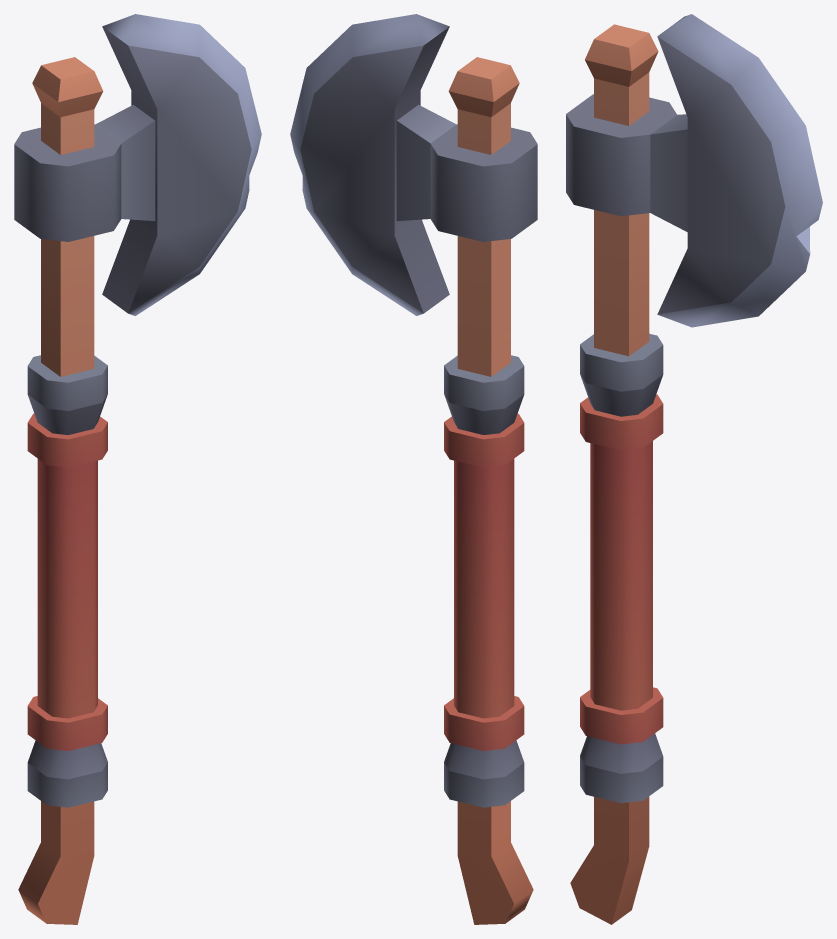
Rendered from axe-single-long.fbx.
3 renders of one model, left to right at view 1: azimuth 30°, elevation 25°; view 2: azimuth 150°, elevation 25°; view 3: azimuth 330°, elevation 25°, orthographic. The views are drawn at different scales.
Parts seen in each view (by area): view 1: axe-single-long; view 2: axe-single-long; view 3: axe-single-long.
Part boxes in pixels (box(x1,y1,x2,y2)): axe-single-long: box(14, 14, 261, 924); axe-single-long: box(290, 14, 537, 924); axe-single-long: box(566, 14, 822, 924).
Size of the model in its own units: 130 by 470 by 45.
1 material, 1 textured.
